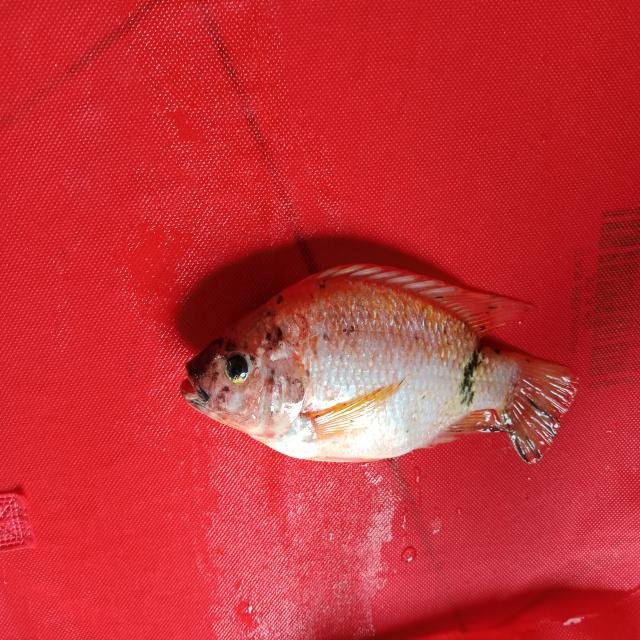ikan: (166, 236, 594, 484)
